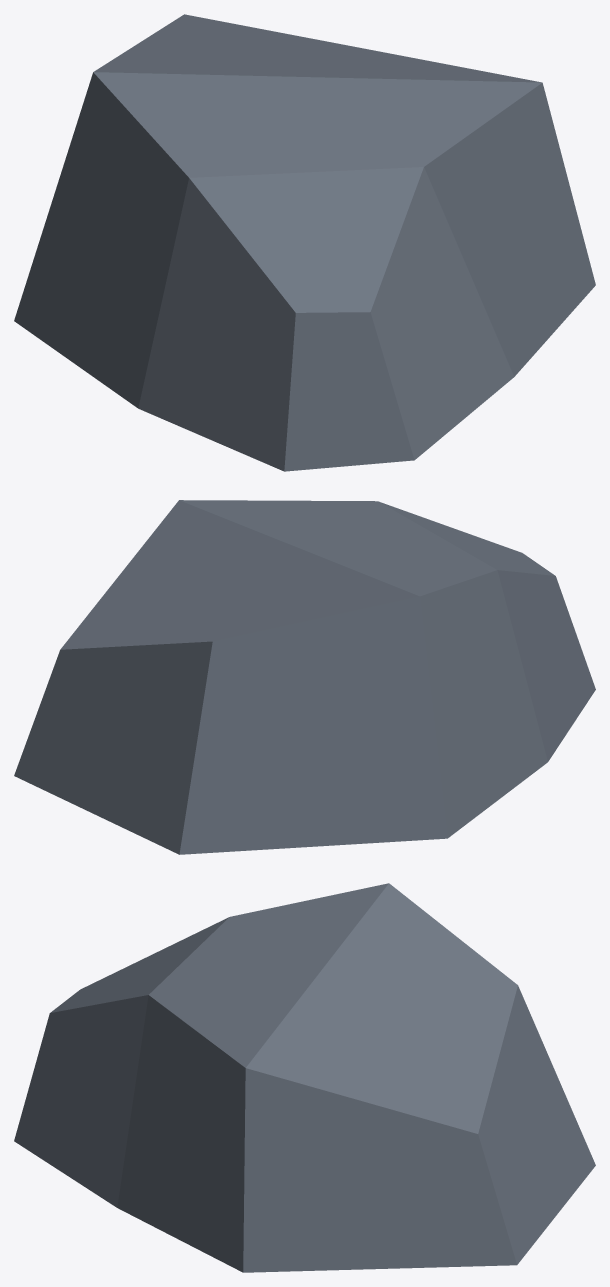
The model's file is RockSmall.fbx.
3 views of the same model, one above another, from view 1: azimuth 30°, elevation 25°; view 2: azimuth 150°, elevation 25°; view 3: azimuth 270°, elevation 25° (orthographic). The views are drawn at different scales.
Visible parts, largest first — view 1: RockSmall; view 2: RockSmall; view 3: RockSmall.
Part boxes in pixels (x1,y1,x2,y2): RockSmall: (14,14,595,471); RockSmall: (14,500,595,854); RockSmall: (14,883,595,1272).
Size of the model in its own units: 99 by 50.46 by 123.
